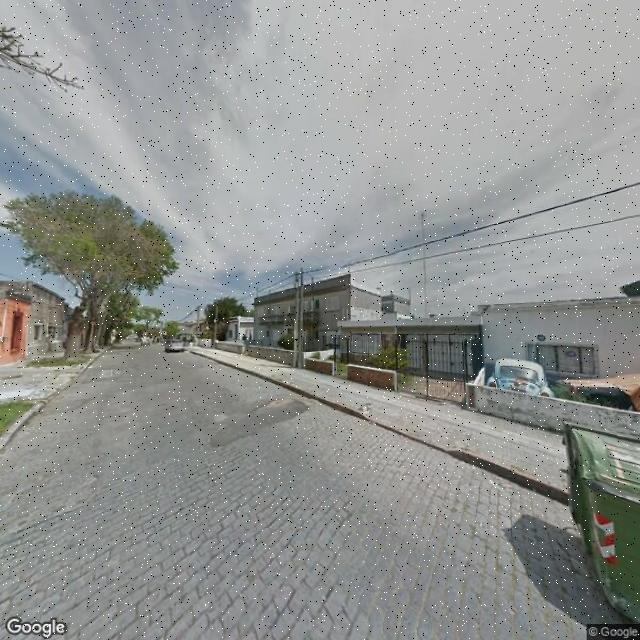garbage container: (549, 406, 640, 630)
